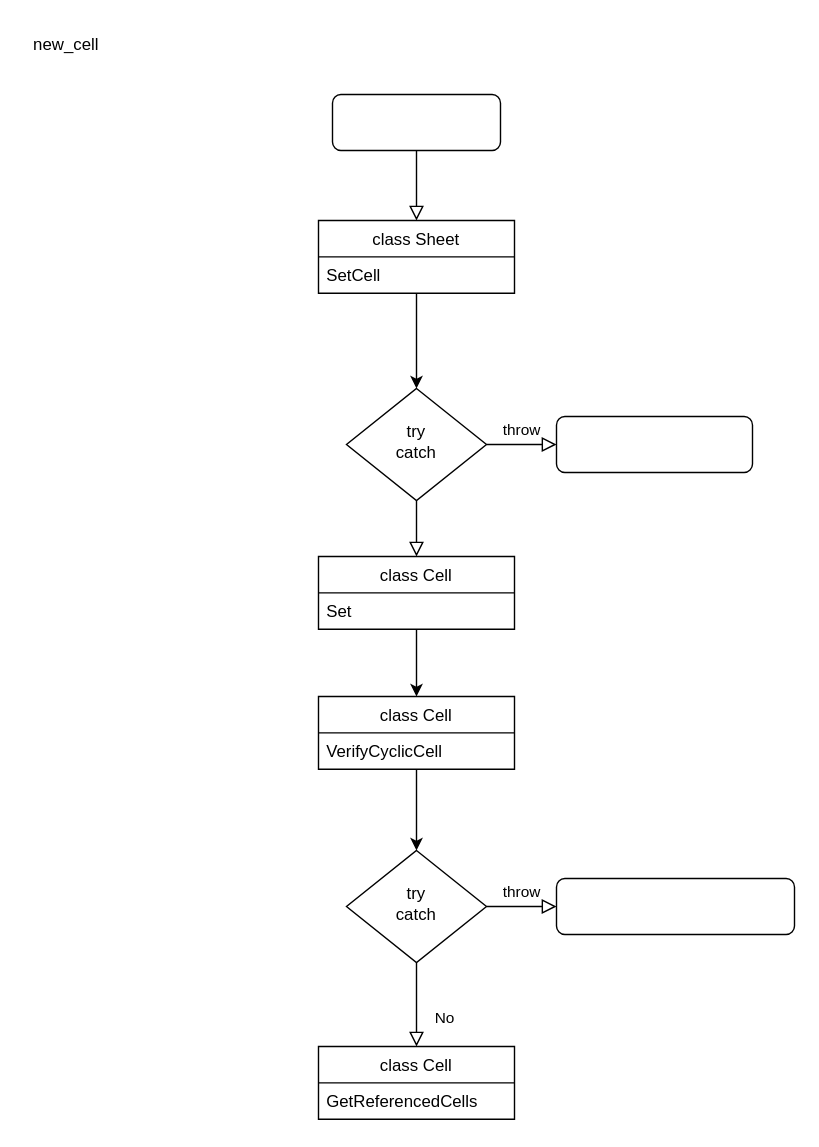
This 819x1147 diagram has some shape labels left out. The centre of each missing label's shape, as x and y in pixels:
CircularDependencyException: (x=674, y=905)
InvalidPositionException: (x=653, y=443)
position, expression: (x=415, y=121)
